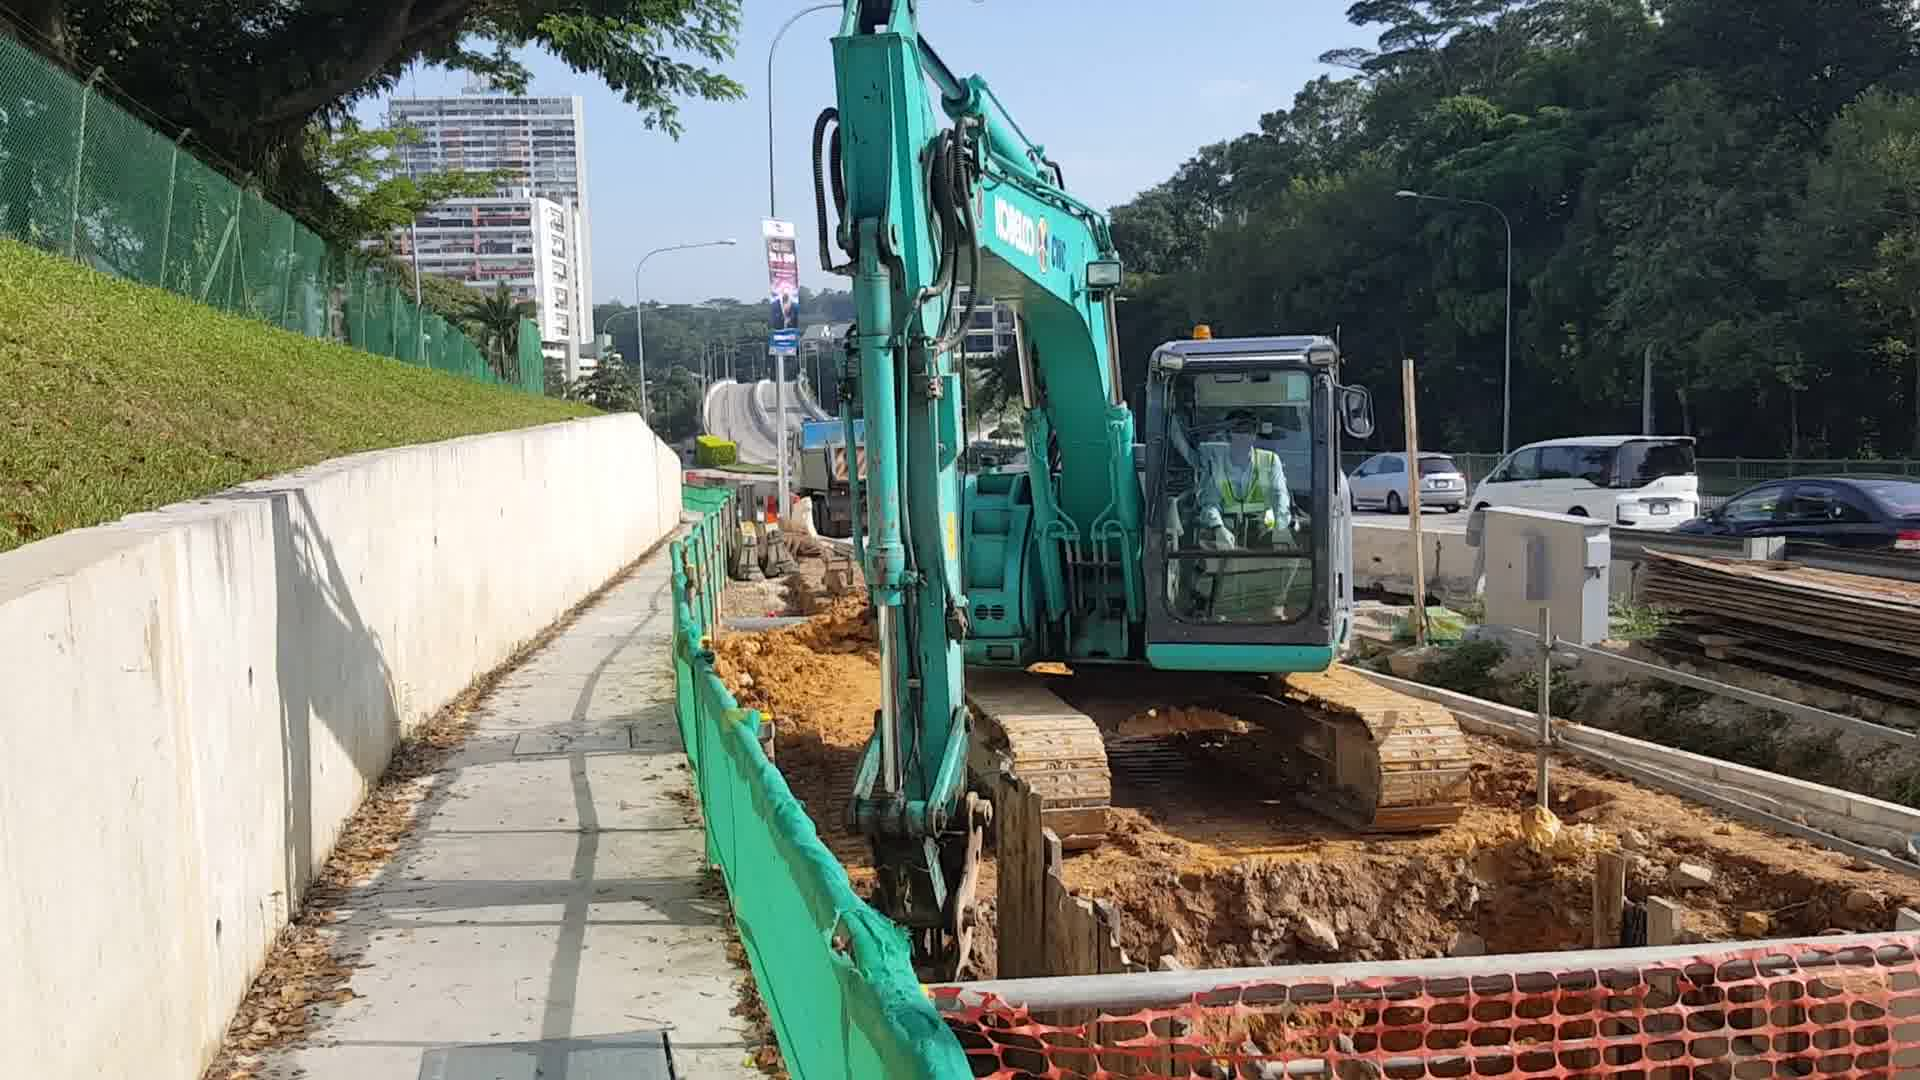cabin: (957, 324, 1378, 669)
forearm: (829, 3, 967, 825)
upperarm: (920, 138, 1139, 655)
wheelbase: (963, 663, 1476, 840)
